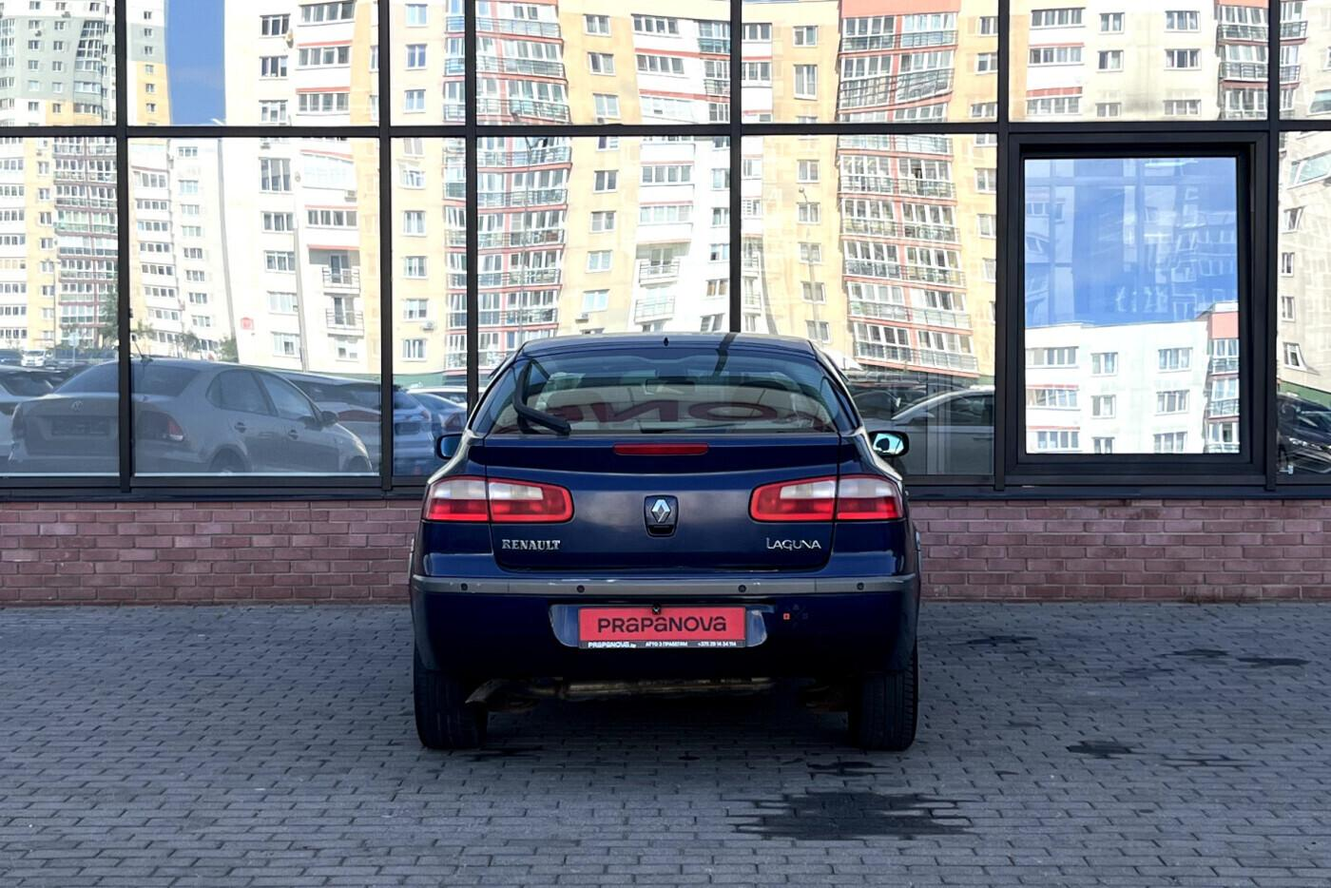Laguna_2001-2005: (409, 333, 920, 750)
